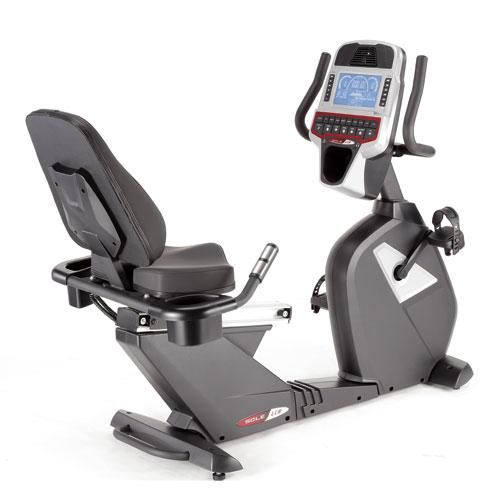gym_bike: (33, 23, 476, 479)
